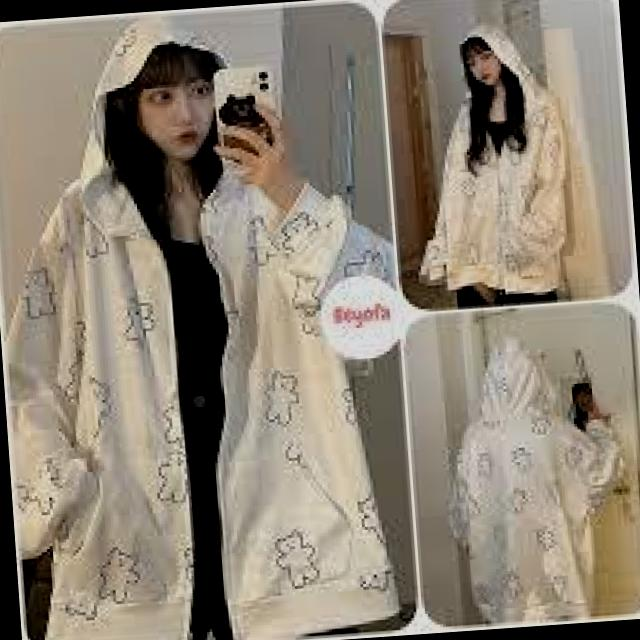sweater: (0, 0, 416, 640), (442, 329, 632, 625), (413, 21, 579, 301)
